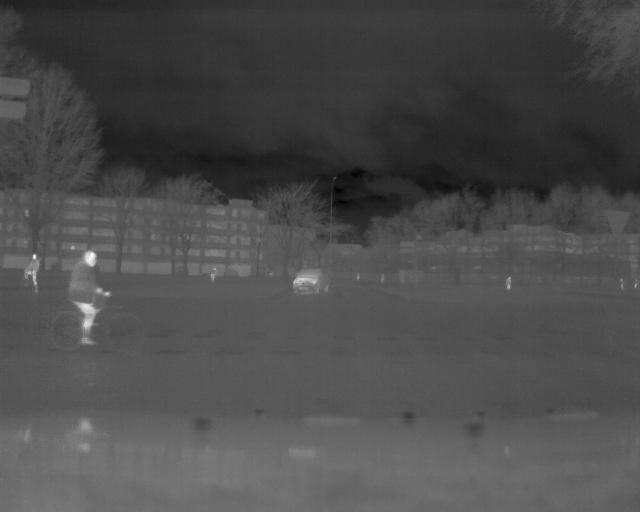car: (292, 265, 331, 297)
person: (67, 247, 110, 347), (22, 250, 42, 294), (505, 277, 513, 295), (209, 266, 218, 280)
